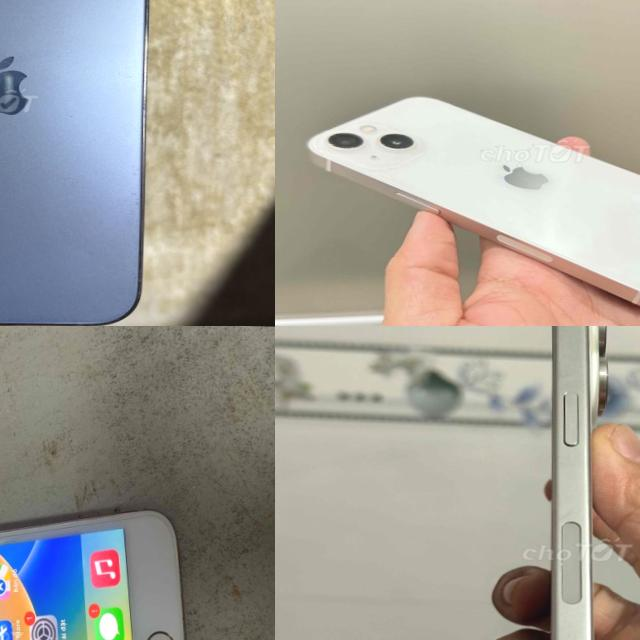gen_12_13: (298, 89, 640, 316), (0, 0, 148, 326)
gen_15: (498, 326, 640, 640)
gen_7_8: (0, 490, 206, 640)
